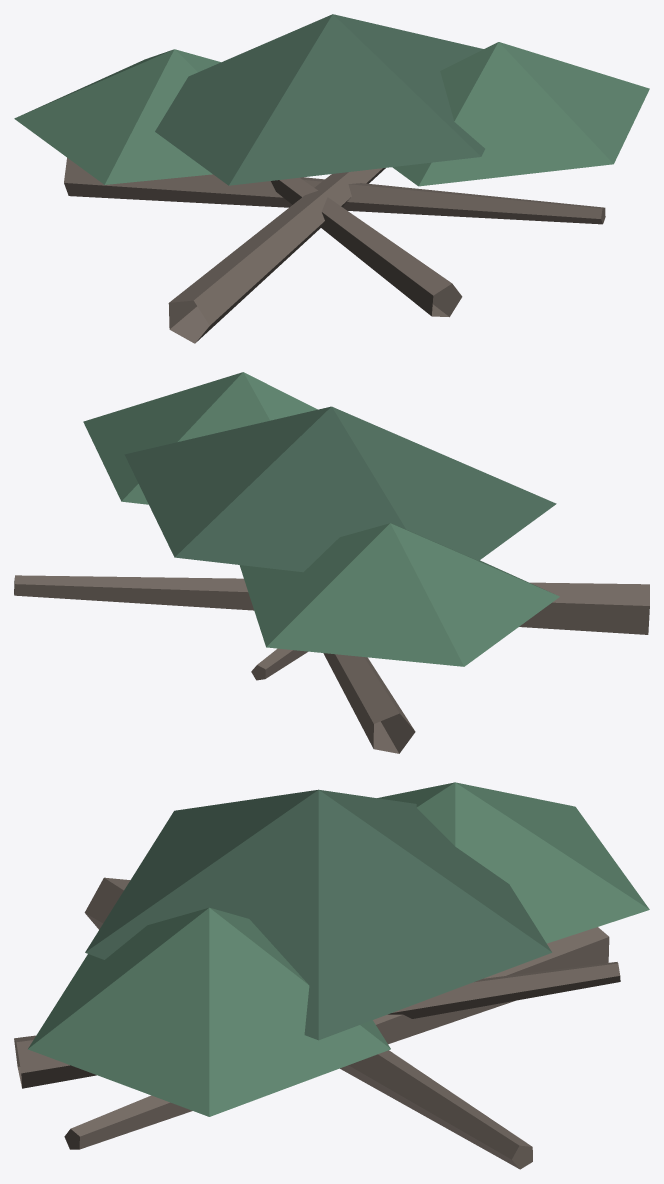
Rendered from resource_foliage.glb.
The picture shows the model from 3 angles, top to bottom: view 1: azimuth 30°, elevation 25°; view 2: azimuth 150°, elevation 25°; view 3: azimuth 270°, elevation 25°; orthographic projection. The views are drawn at different scales.
Visible parts, largest first — view 1: Resource_Foliage; view 2: Resource_Foliage; view 3: Resource_Foliage.
Boxes of the visible parts, left/top/right/bottom form: Resource_Foliage: left=14, top=14, right=649, bottom=343; Resource_Foliage: left=14, top=372, right=649, bottom=753; Resource_Foliage: left=14, top=782, right=649, bottom=1169.
Size of the model in its own units: 0.5711 by 0.2389 by 0.4658.
